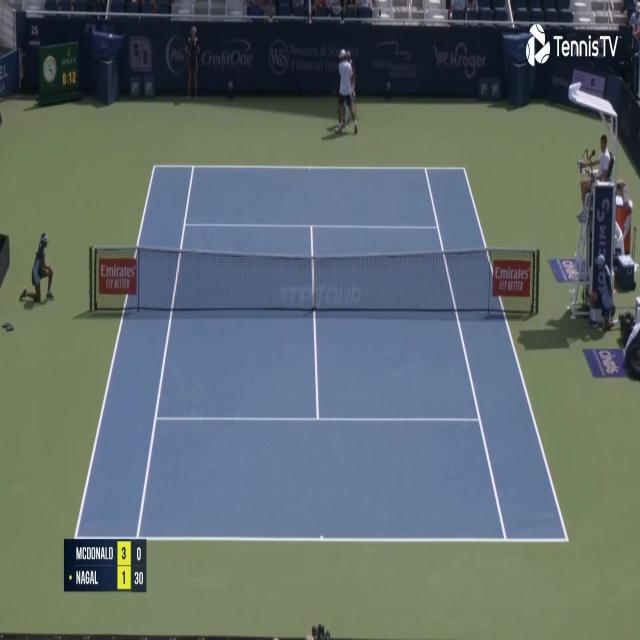tennis-player: (330, 44, 361, 141)
